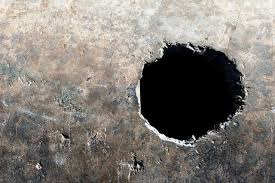Manhole-Open: (114, 29, 262, 155)
